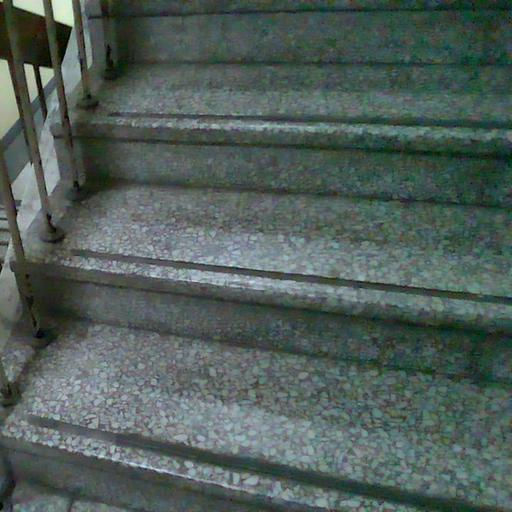stairs: (2, 0, 511, 511), (0, 205, 9, 269)
